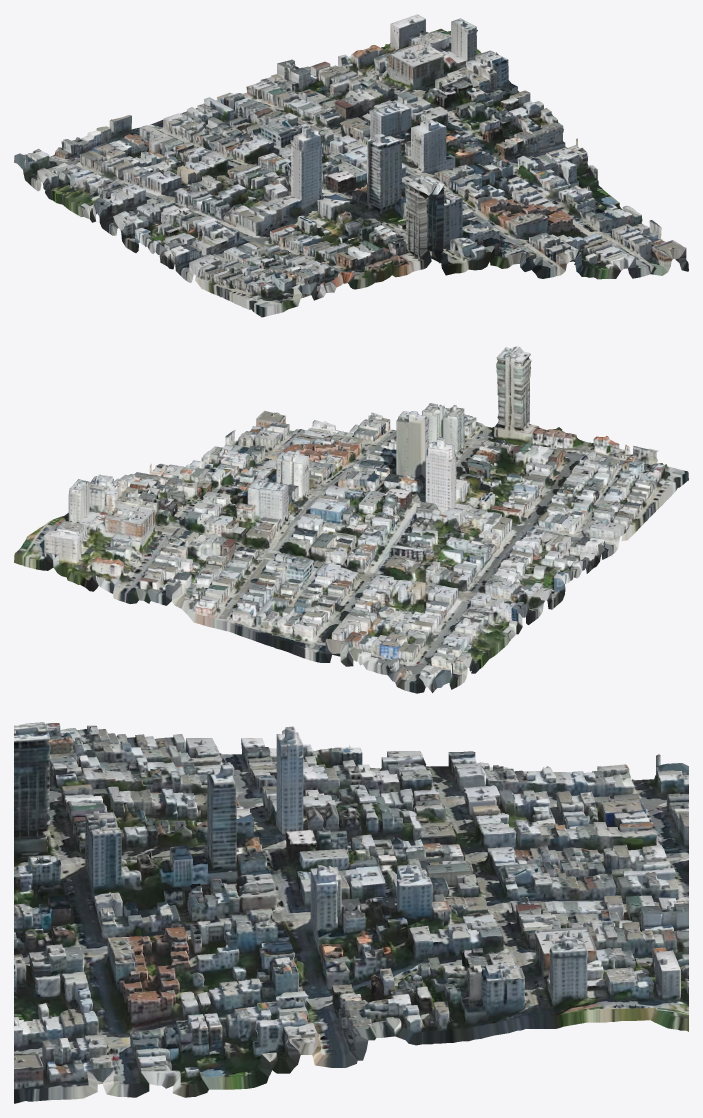
File: z16-10482-25325-h0-yup-uvflip-v3-world.glb
3 renders of one model, top to bottom at view 1: azimuth 30°, elevation 25°; view 2: azimuth 150°, elevation 25°; view 3: azimuth 270°, elevation 25°, orthographic. The views are drawn at different scales.
Bounding box in the file's own units: 484 × 163 × 485.
Materials: 1 (1 with a texture image).
